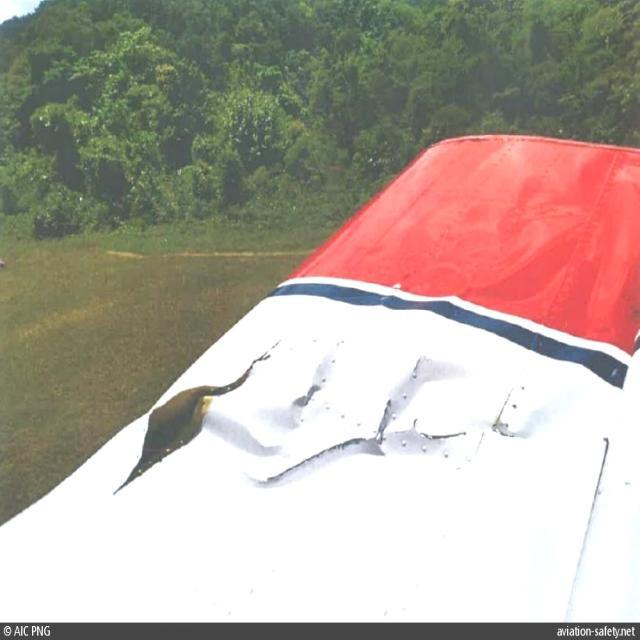crack: (262, 436, 370, 485), (379, 395, 400, 457), (411, 424, 454, 454), (410, 362, 428, 388)
